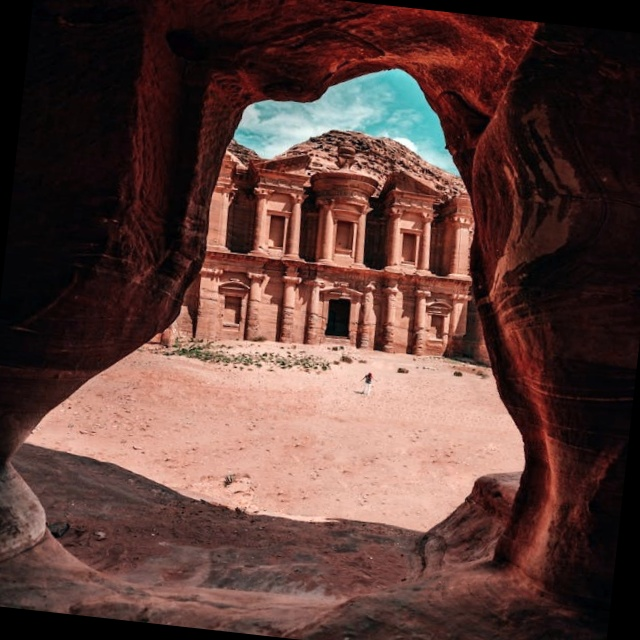contaminated_water: (13, 13, 627, 627)
turbid_water: (0, 0, 604, 640)
